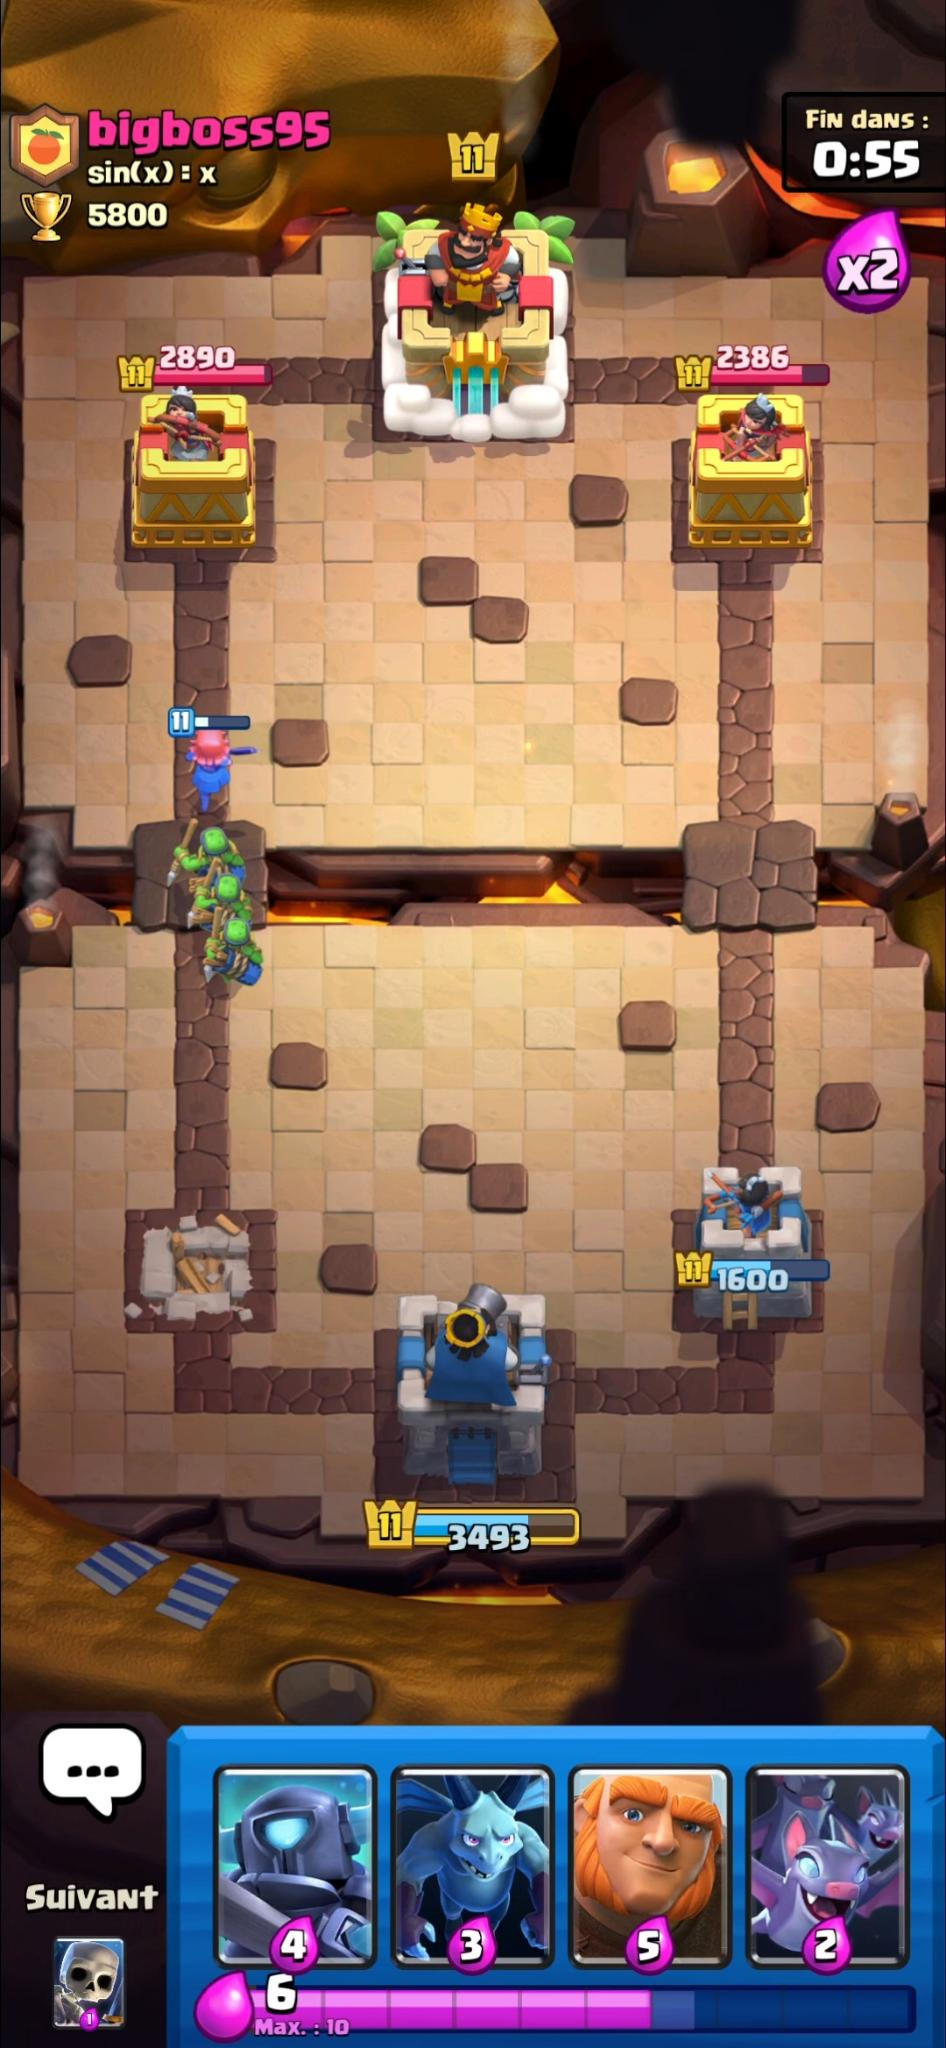gobelin_lances: (176, 816, 248, 892), (201, 913, 268, 994), (191, 878, 252, 930)
valkyrie: (187, 730, 256, 818)
